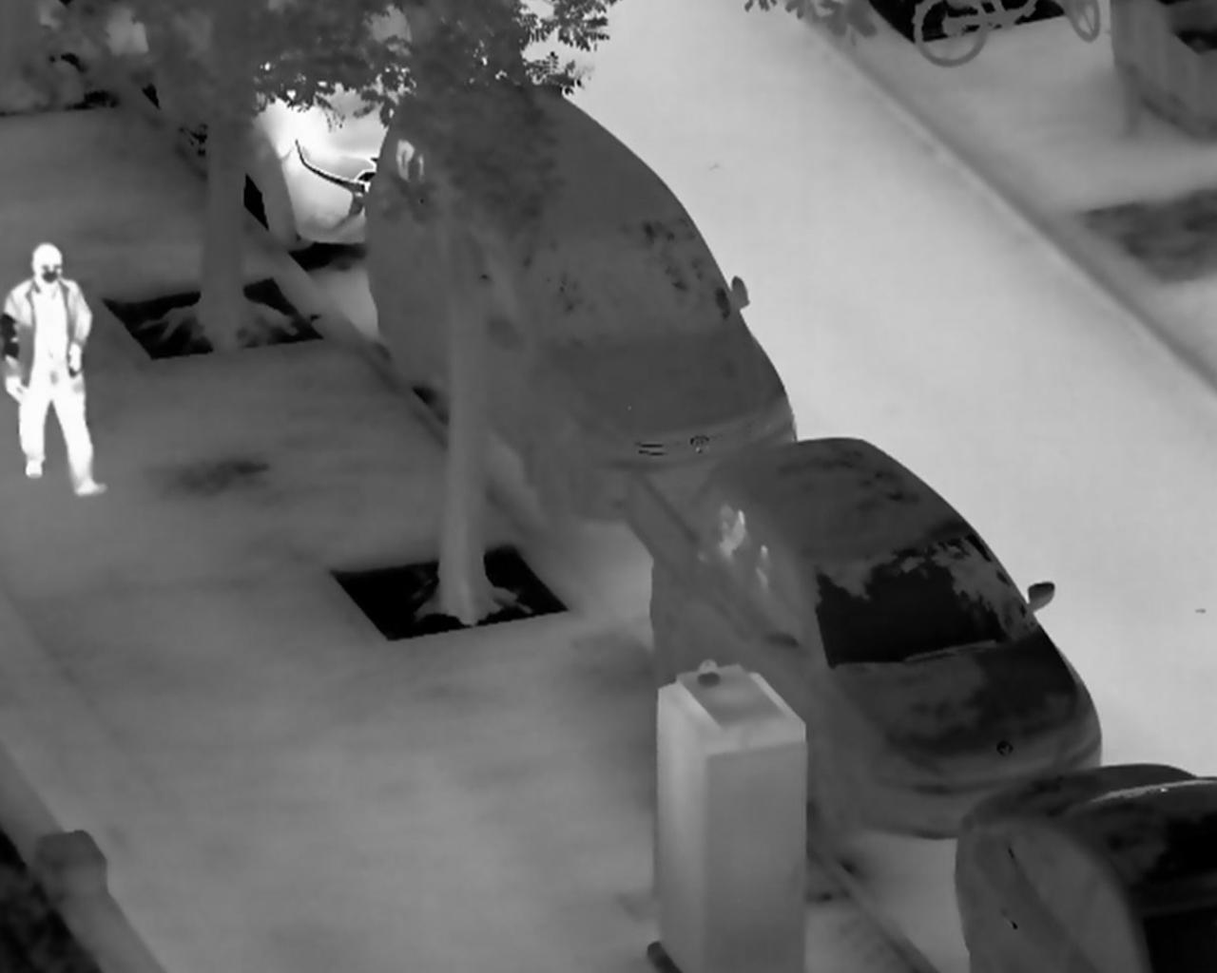person: (4, 241, 106, 495)
